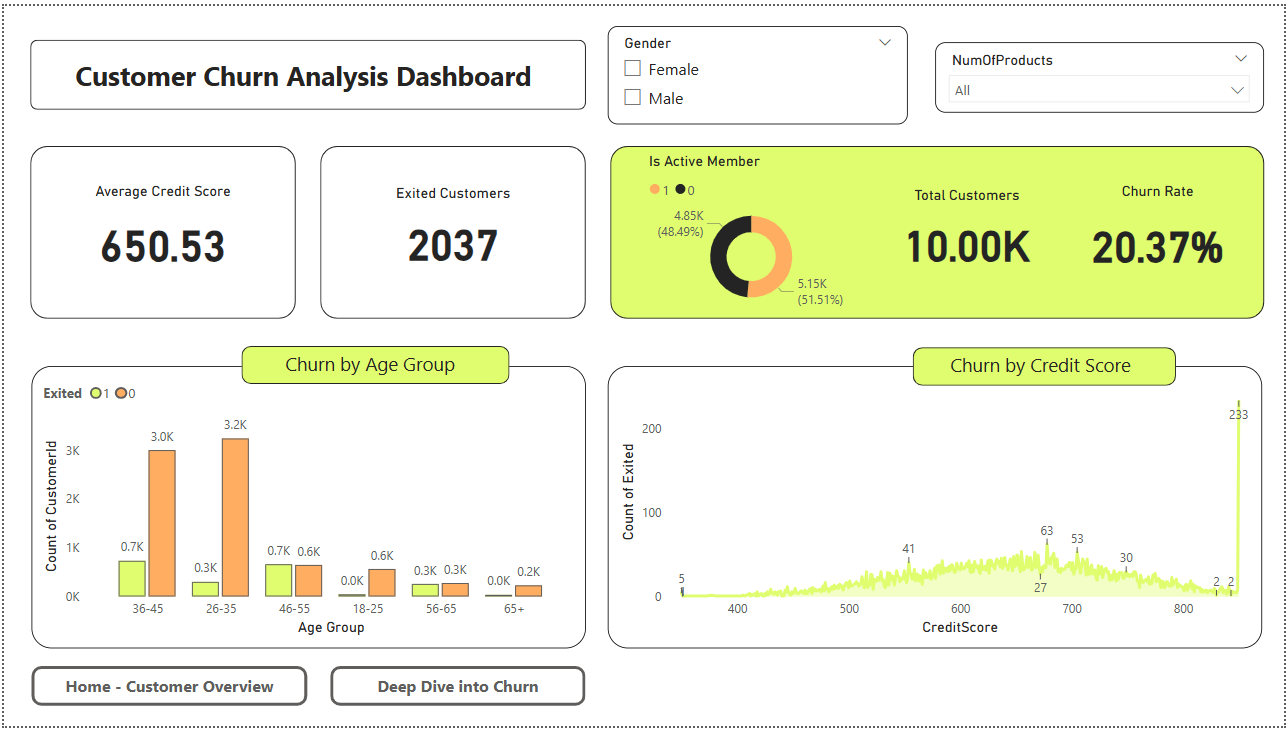

Layout of this report page (visuals, bound fields, positions):
{"tool":"powerbi","page":{"name":"Page 1","canvas":[1280,720],"ordinal":0},"visuals":[{"type":"shape","box":[605.7,140,654.3,172.9],"z":0},{"type":"donutChart","title":"Is Active Member","fields":{"Y":["CountNonNull(Churn_Modelling.CustomerId)"],"Category":["Churn_Modelling.IsActiveMember"]},"box":[640,145.7,214.3,162.9],"z":1000},{"type":"card","title":"Churn Rate","fields":{"Values":["Churn_Modelling.Churn Rate (%)"]},"box":[1048.6,175.7,210,104.3],"z":2000},{"type":"shape","box":[25.7,140,265.7,172.9],"z":3000},{"type":"shape","box":[315.7,140,265.7,172.9],"z":4000},{"type":"card","title":"Total Customers","fields":{"Values":["CountNonNull(Churn_Modelling.CustomerId)"]},"box":[830,180,265.7,95.7],"z":5000},{"type":"card","title":"Exited Customers","fields":{"Values":["Sum(Churn_Modelling.Exited)"]},"box":[315.7,178.6,265.7,95.7],"z":6000},{"type":"card","title":"Average Credit Score","fields":{"Values":["Avg(Churn_Modelling.CreditScore)"]},"box":[25.7,175.7,265.7,102.9],"z":7000},{"type":"clusteredColumnChart","title":"Churn by Age Group","fields":{"Category":["Churn_Modelling.Age Group"],"Y":["CountNonNull(Churn_Modelling.CustomerId)"],"Series":["Churn_Modelling.Exited"]},"box":[28,360,554,282],"z":8000},{"type":"shape","box":[238,340,268,38],"z":9000},{"type":"textbox","box":[276,340,230,50],"z":10000},{"type":"lineChart","fields":{"Category":["Churn_Modelling.CreditScore"],"Y":["CountNonNull(Churn_Modelling.Exited)"]},"box":[604,360,654,282],"z":11000},{"type":"shape","box":[908.6,341.4,262.9,38.6],"z":12000},{"type":"textbox","box":[941.4,341.4,214.3,50],"z":13000},{"type":"slicer","fields":{"Values":["Churn_Modelling.Gender"]},"box":[604.3,20,300,98.6],"z":14000},{"type":"slicer","fields":{"Values":["Churn_Modelling.NumOfProducts"]},"box":[931.4,35.7,328.6,70],"z":15000},{"type":"shape","box":[25.7,34.3,555.7,70],"z":16000},{"type":"textbox","box":[65.7,45.7,478.6,47.1],"z":17000}]}

Visuals, with their boxes in screenshot pixels (x1, y1, x2, y2), scaled from the page's 1280x720 canvas onto the 1287x729 screenshot:
shape: left=609, top=142, right=1267, bottom=317
"Is Active Member" donutChart: left=644, top=148, right=859, bottom=312
"Churn Rate" card: left=1054, top=178, right=1265, bottom=284
shape: left=26, top=142, right=293, bottom=317
shape: left=317, top=142, right=585, bottom=317
"Total Customers" card: left=835, top=182, right=1102, bottom=279
"Exited Customers" card: left=317, top=181, right=585, bottom=278
"Average Credit Score" card: left=26, top=178, right=293, bottom=282
"Churn by Age Group" clusteredColumnChart: left=28, top=364, right=585, bottom=650
shape: left=239, top=344, right=509, bottom=383
textbox: left=278, top=344, right=509, bottom=395
lineChart - Churn_Modelling.CreditScore x CountNonNull(Churn_Modelling.Exited): left=607, top=364, right=1265, bottom=650
shape: left=914, top=346, right=1178, bottom=385
textbox: left=947, top=346, right=1162, bottom=396
slicer - Churn_Modelling.Gender: left=608, top=20, right=909, bottom=120
slicer - Churn_Modelling.NumOfProducts: left=936, top=36, right=1267, bottom=107
shape: left=26, top=35, right=585, bottom=106
textbox: left=66, top=46, right=547, bottom=94
